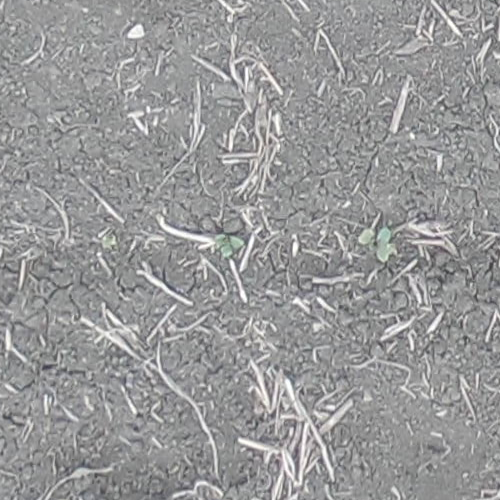plant: (357, 226, 398, 263), (213, 233, 245, 258), (100, 233, 117, 250)
